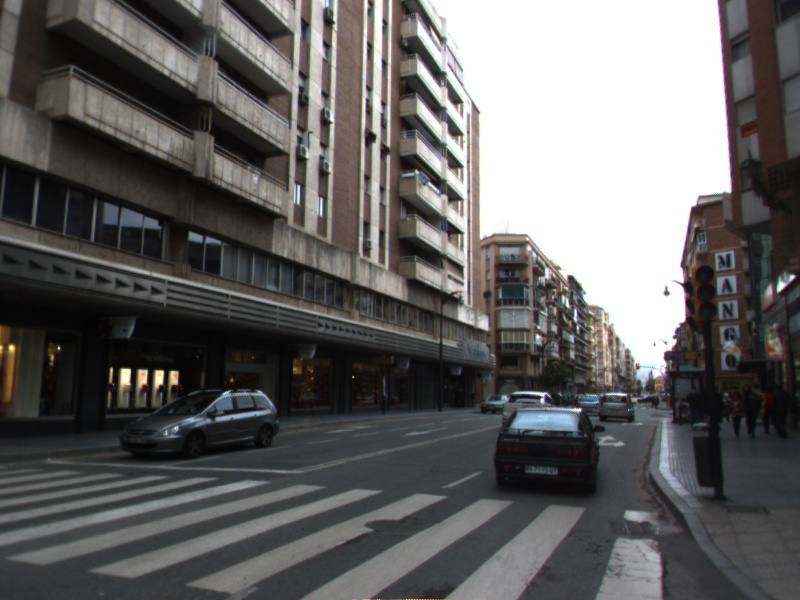STRAIGHT_RIGHT: (598, 434, 627, 449)
